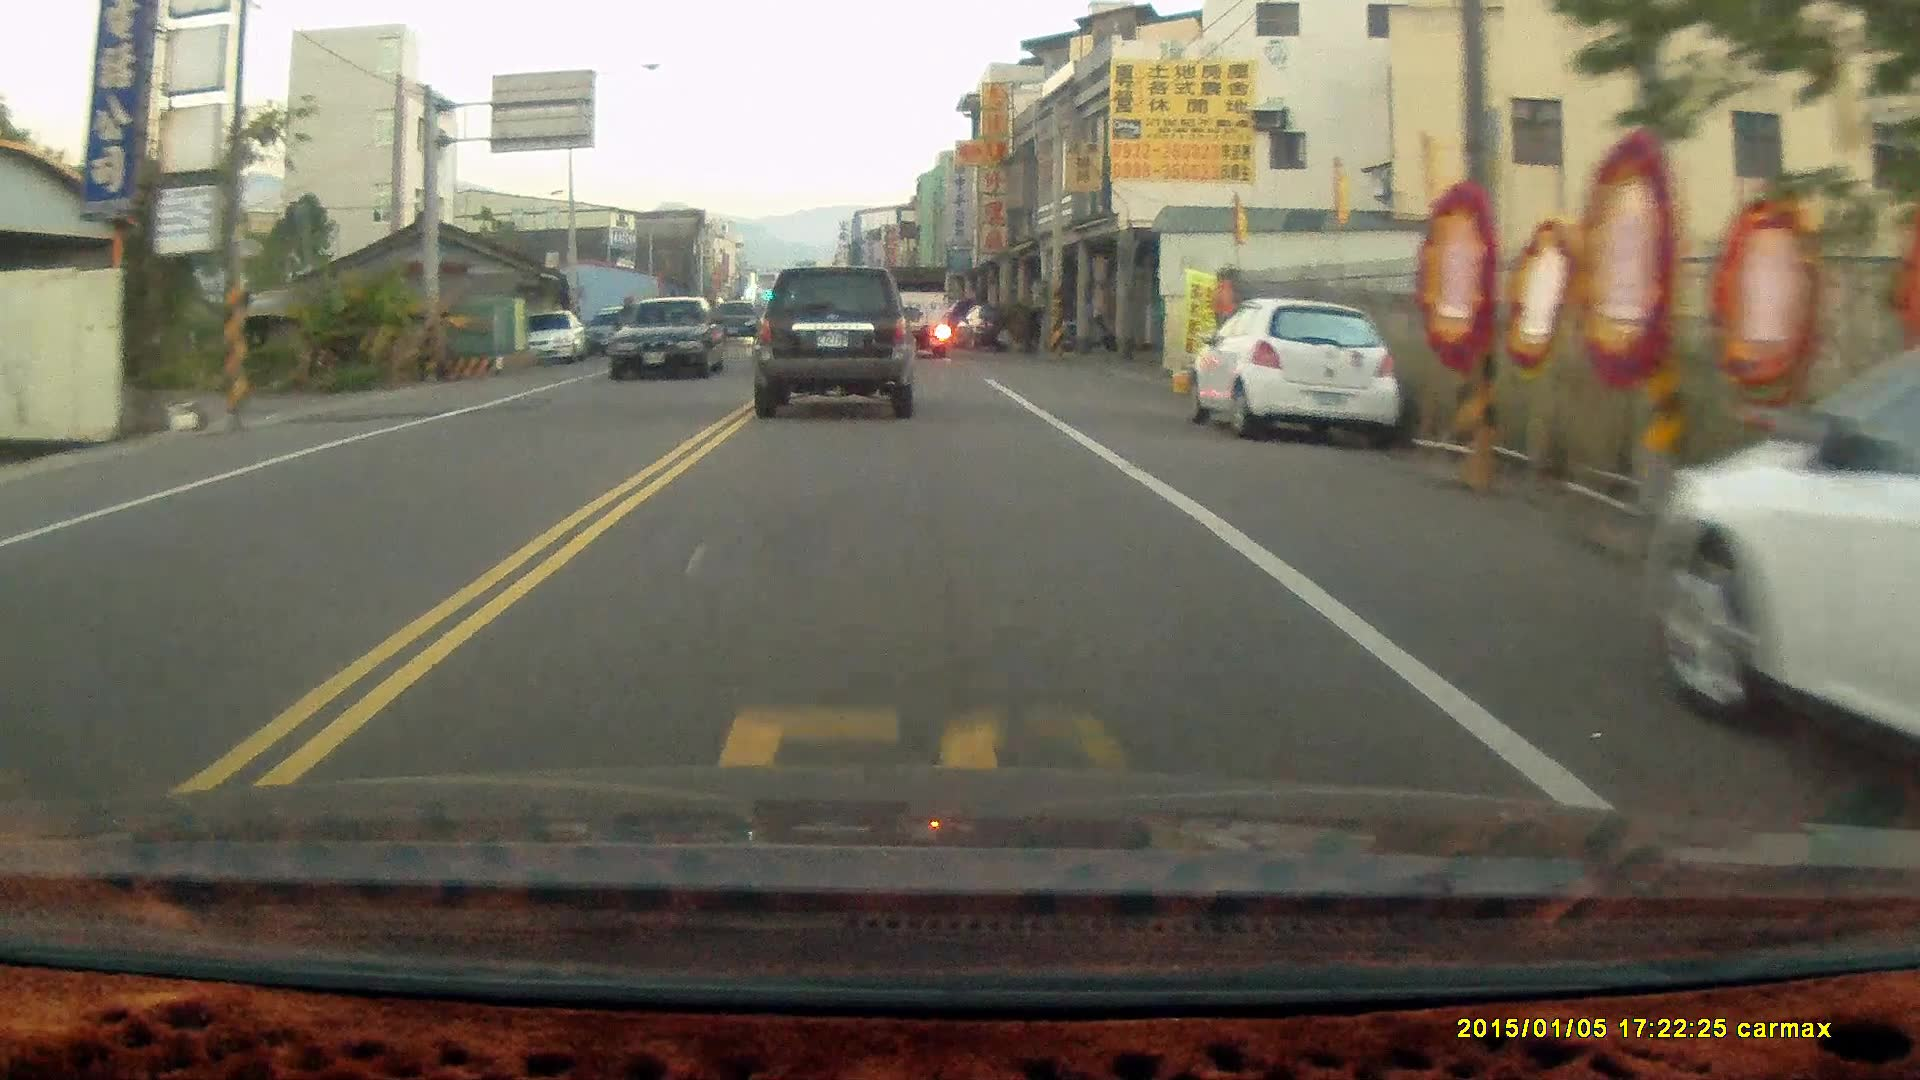vehicle: (1644, 330, 1920, 837), (1192, 298, 1396, 454), (748, 268, 918, 422), (613, 291, 732, 381), (880, 262, 955, 357), (509, 310, 589, 367), (579, 309, 649, 356)
